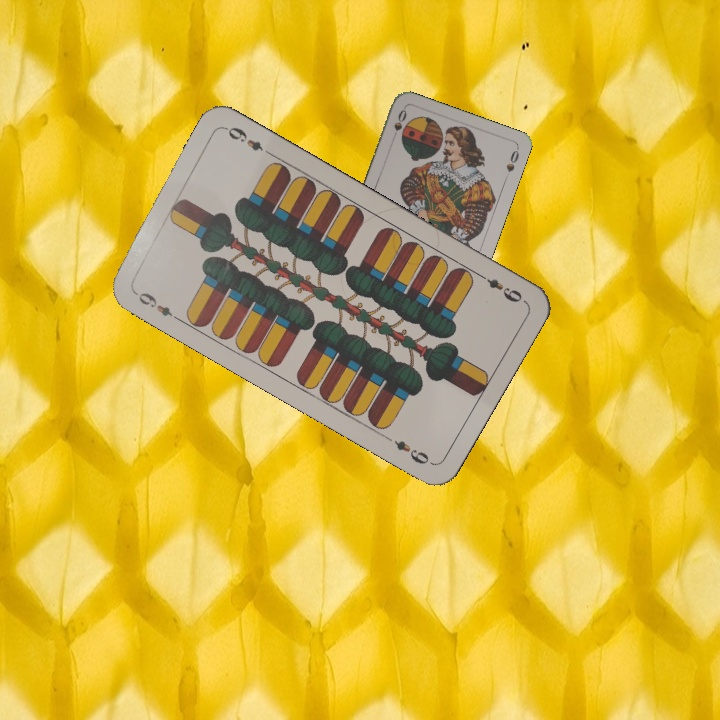E9: (128, 285, 182, 323), (473, 269, 525, 305)
SO: (388, 105, 409, 144)
